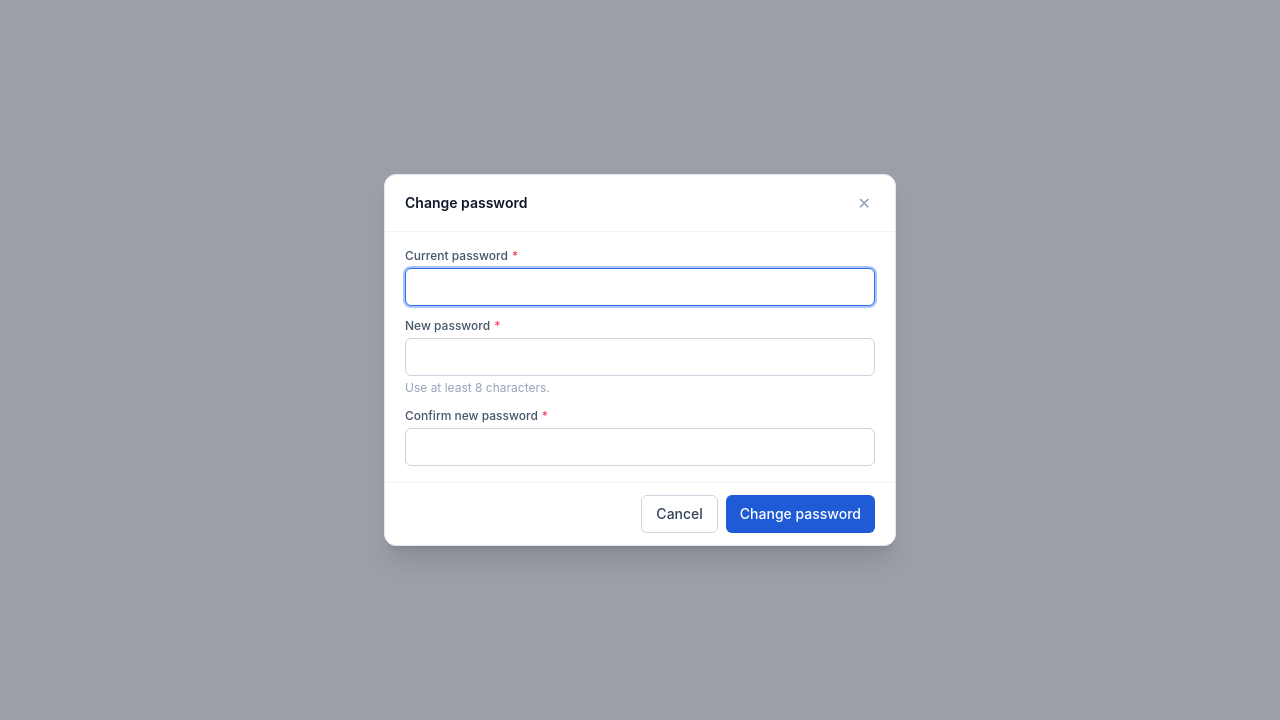
Test: ChangePasswordModal › surfaces the error message and stays open when changePassword rejects
Type "wrongpass" into the password field labelled "Current password *" at (640, 287), box [405,268,875,306]
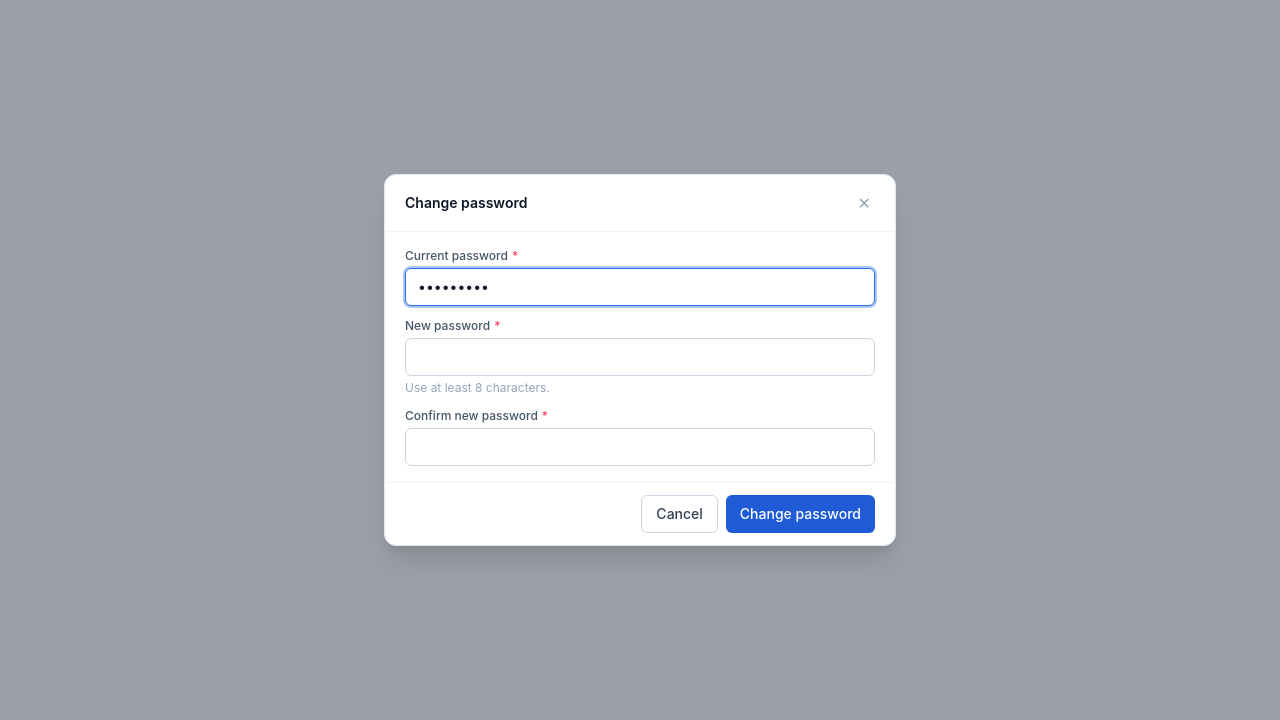
Type "newpassword1" into the password field labelled "New password * Use at least 8 characters." at (640, 357), box [405,338,875,376]
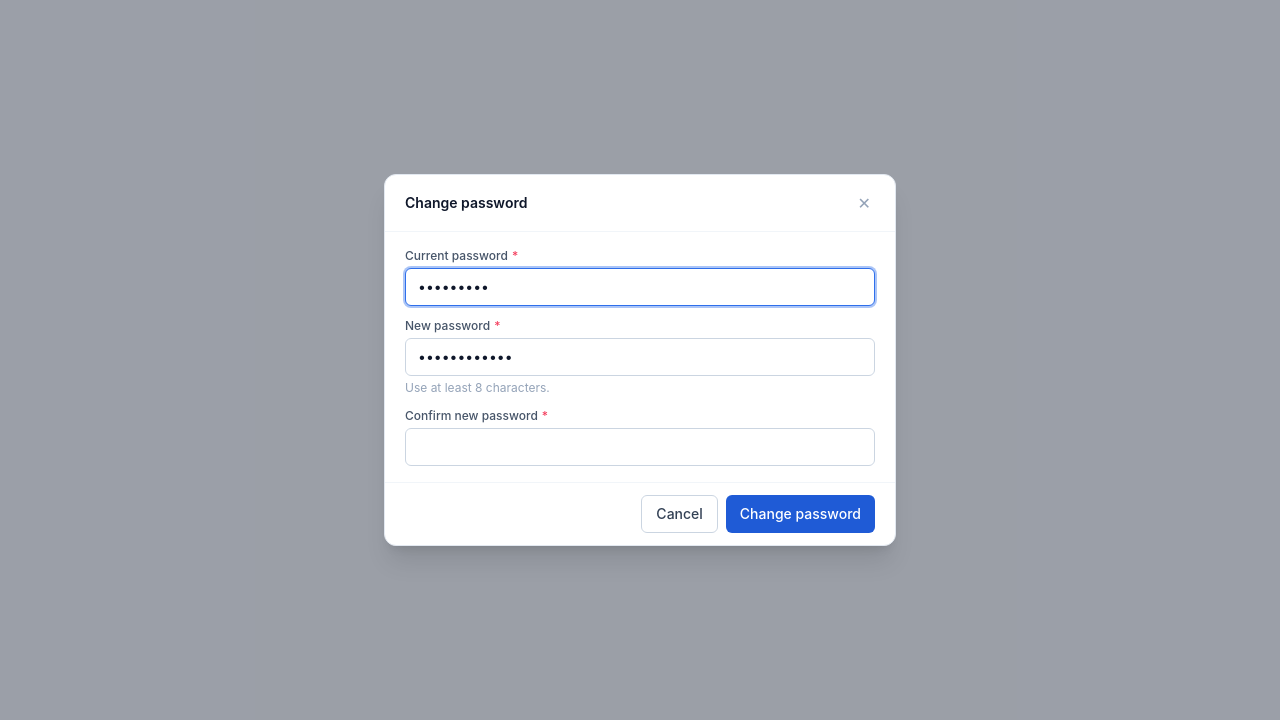
Type "newpassword1" into the password field labelled "Confirm new password *" at (640, 447), box [405,428,875,466]
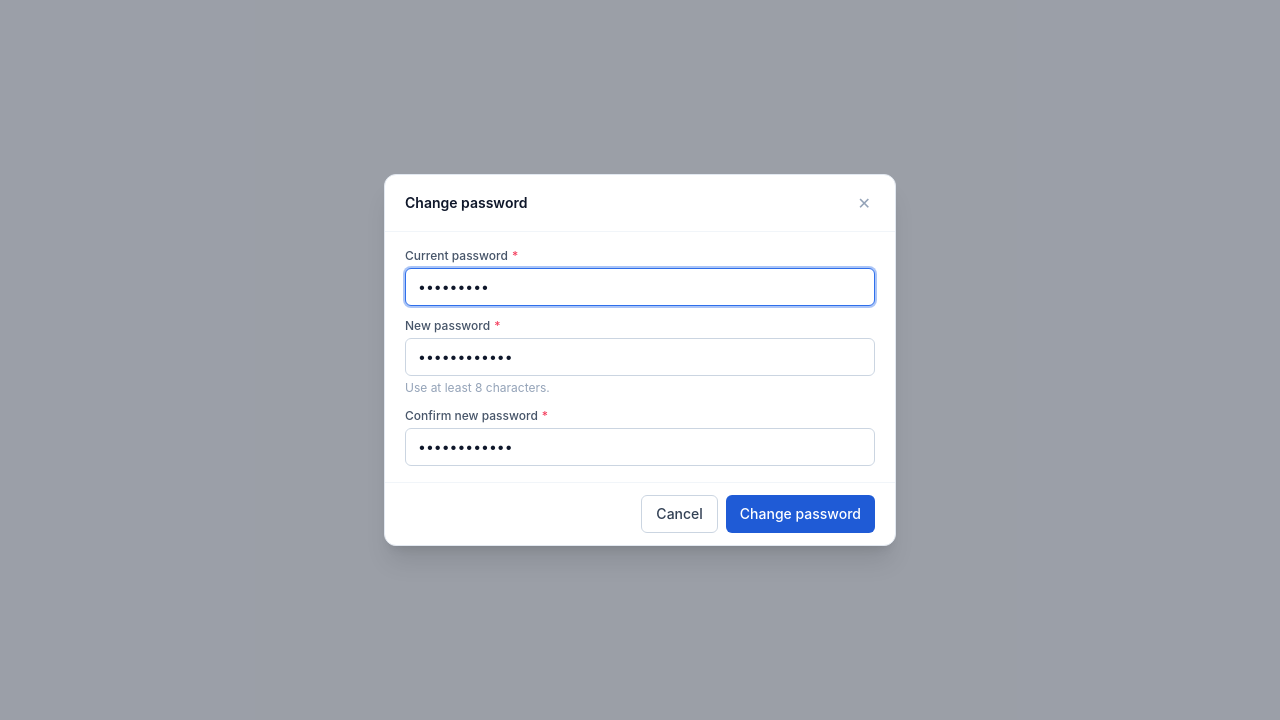
Click the button "Change password" at (800, 514), box [726,495,875,533]
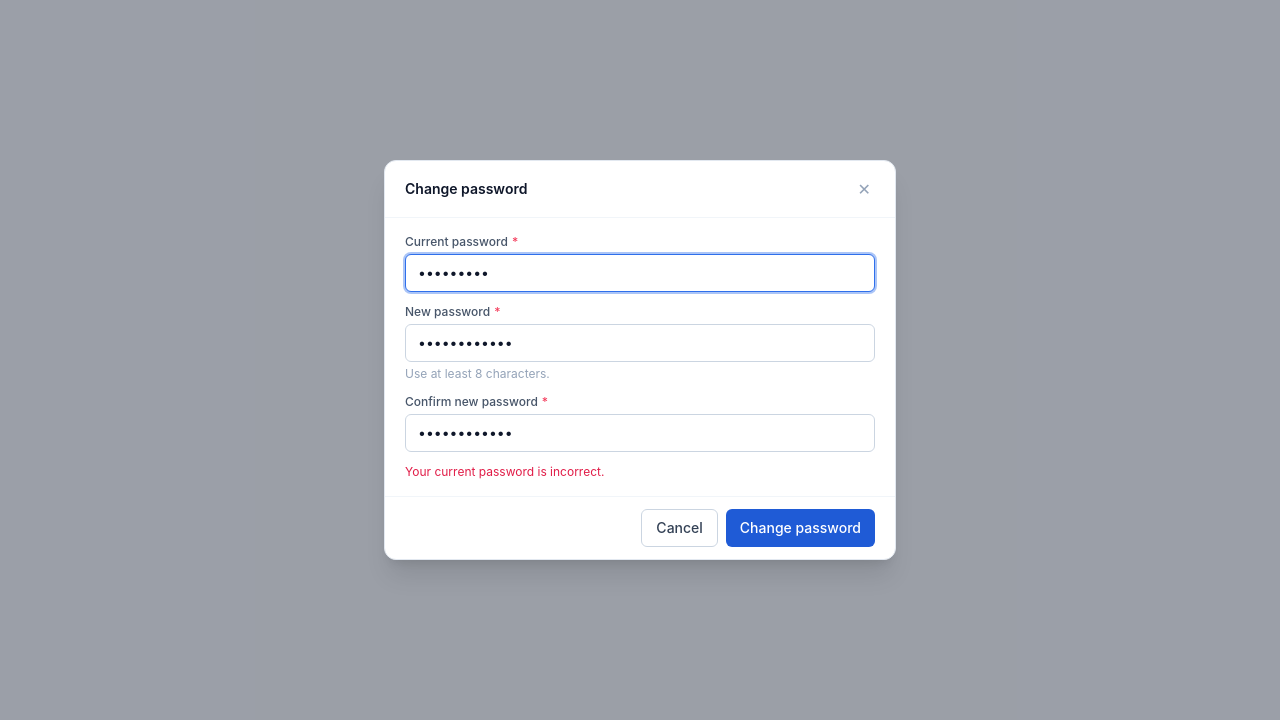
Expected: the dialog is shown, [384,160,896,560]
Expected: the text "Your current password is incorrect." is shown, [405,464,604,479]
